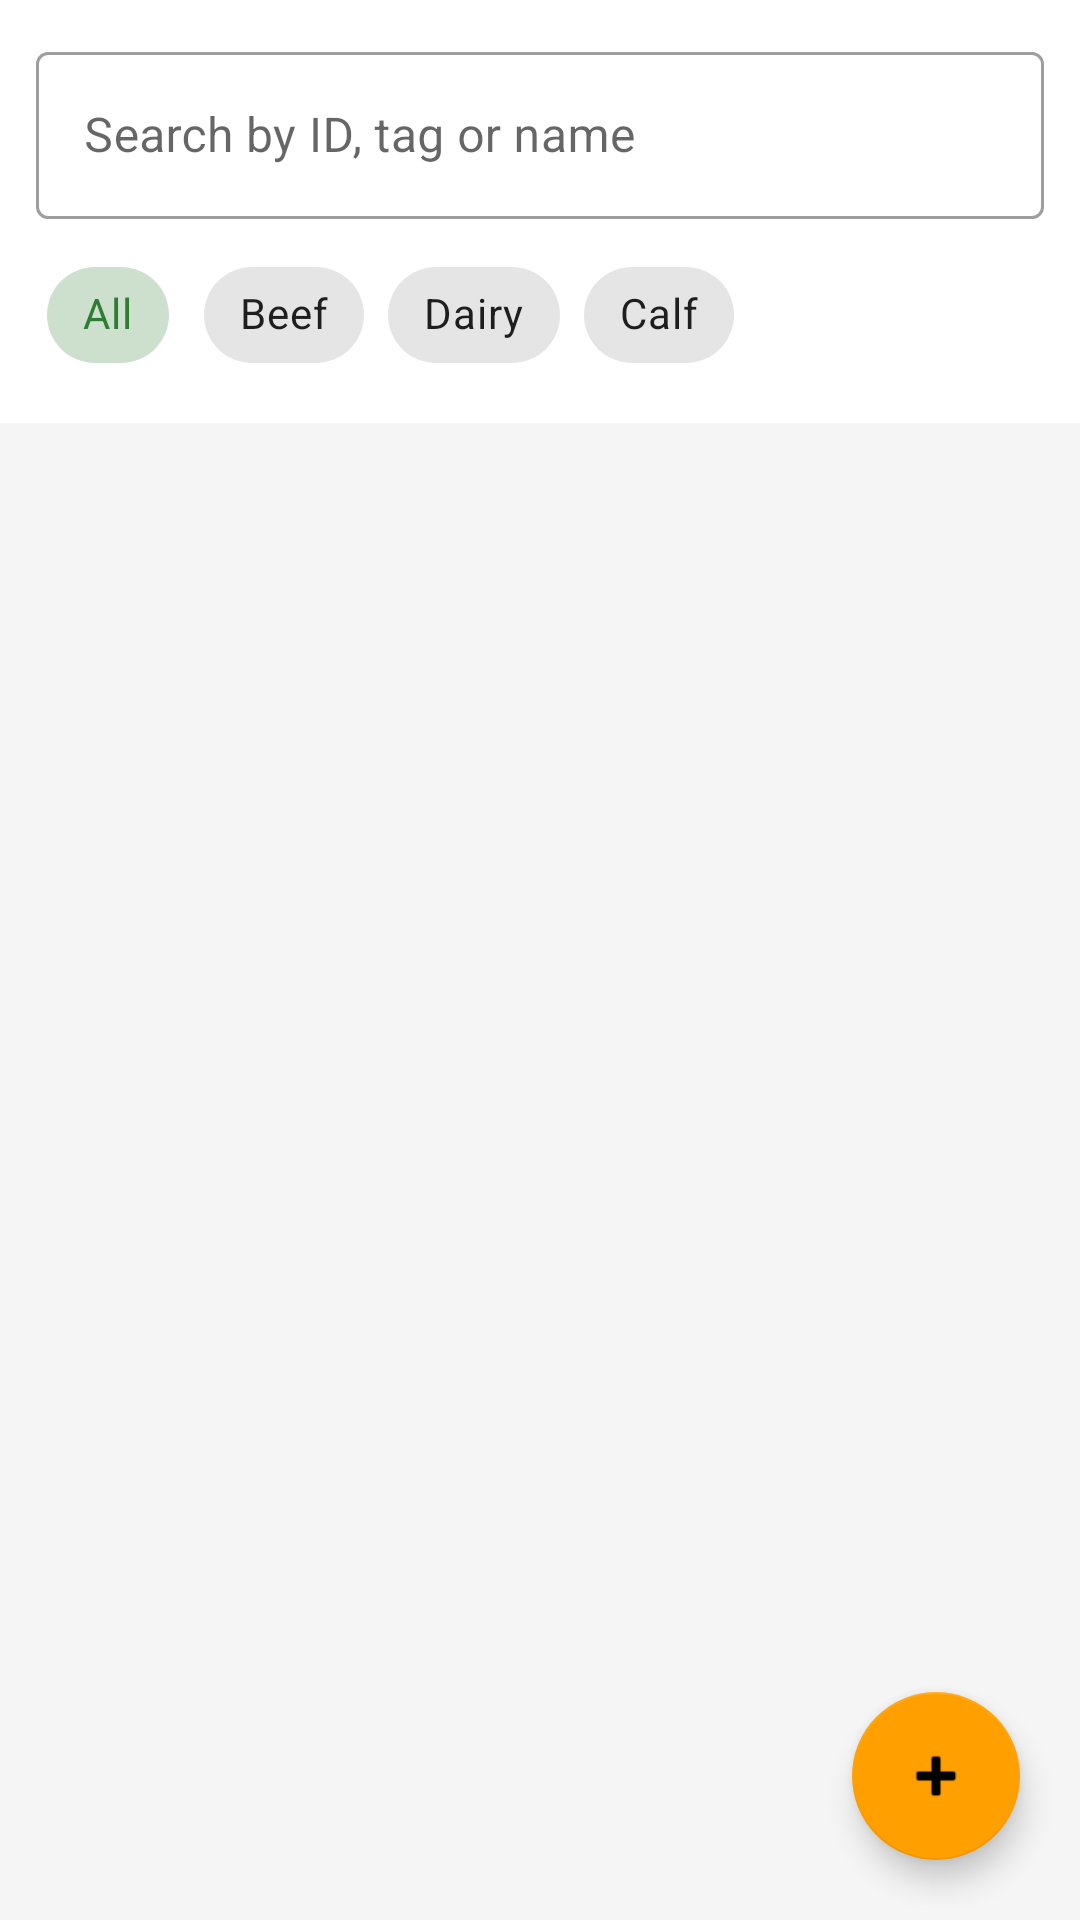

Point at icon controls on the screen. Image size 1080 x 1920, points as [x,y].
Add animal: [936,1776]
